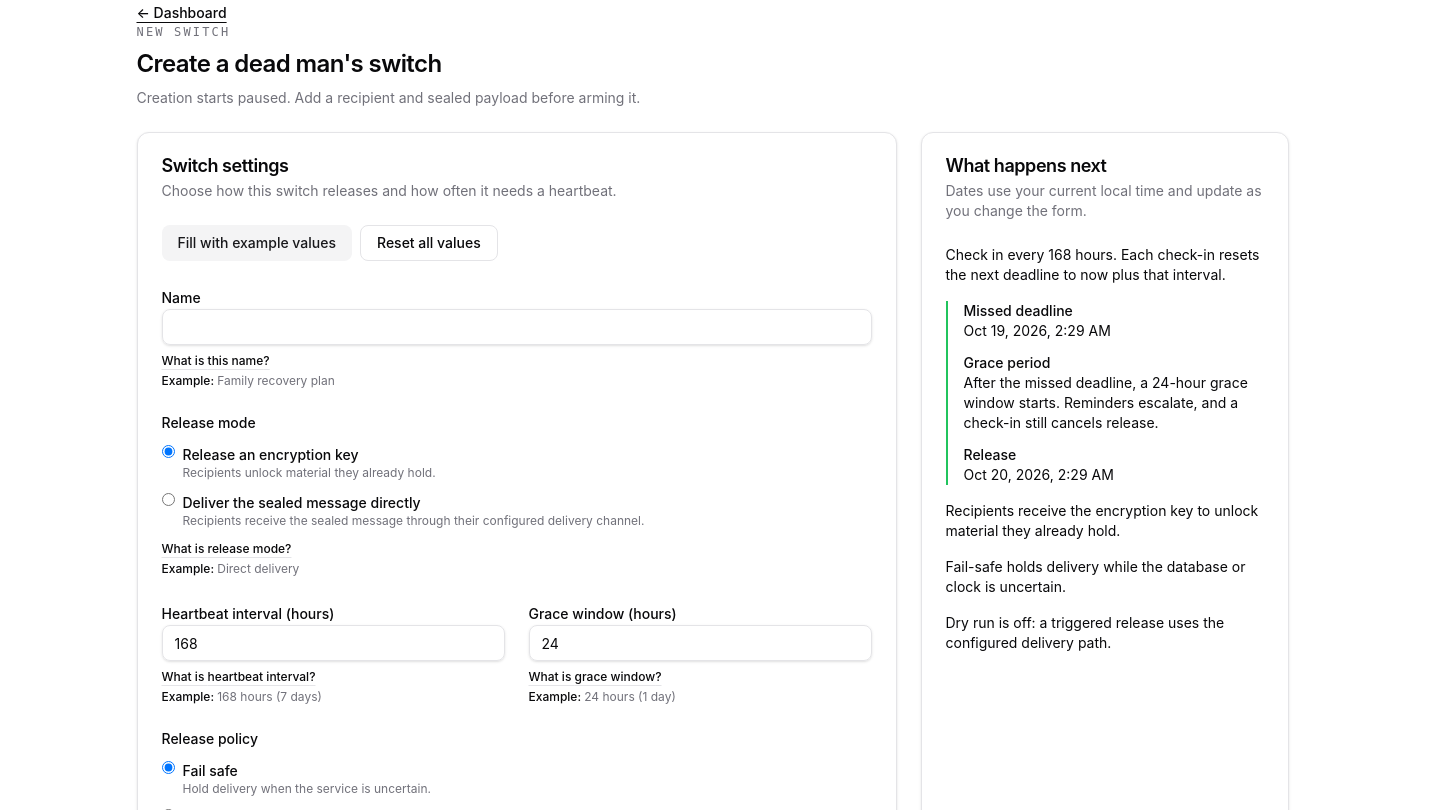
it: NewSwitchPage › toggles each field explanation from its accessible help button
Click the button "What is this name?".
click(216, 361)  # box [162,353,270,369]
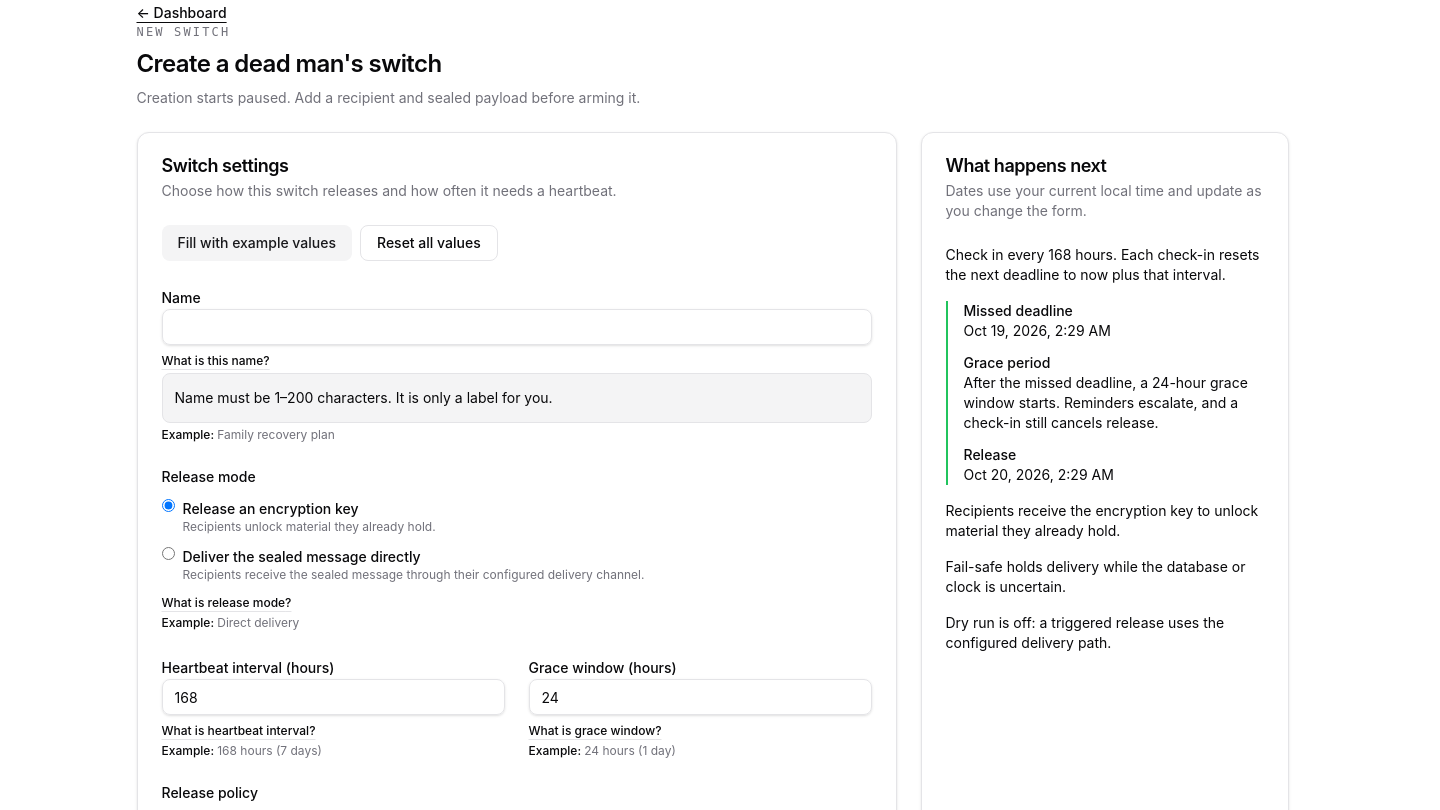
Check: the text named "this name explanation" shows "Name must be 1–200 characters.", box [174,389,553,406]
